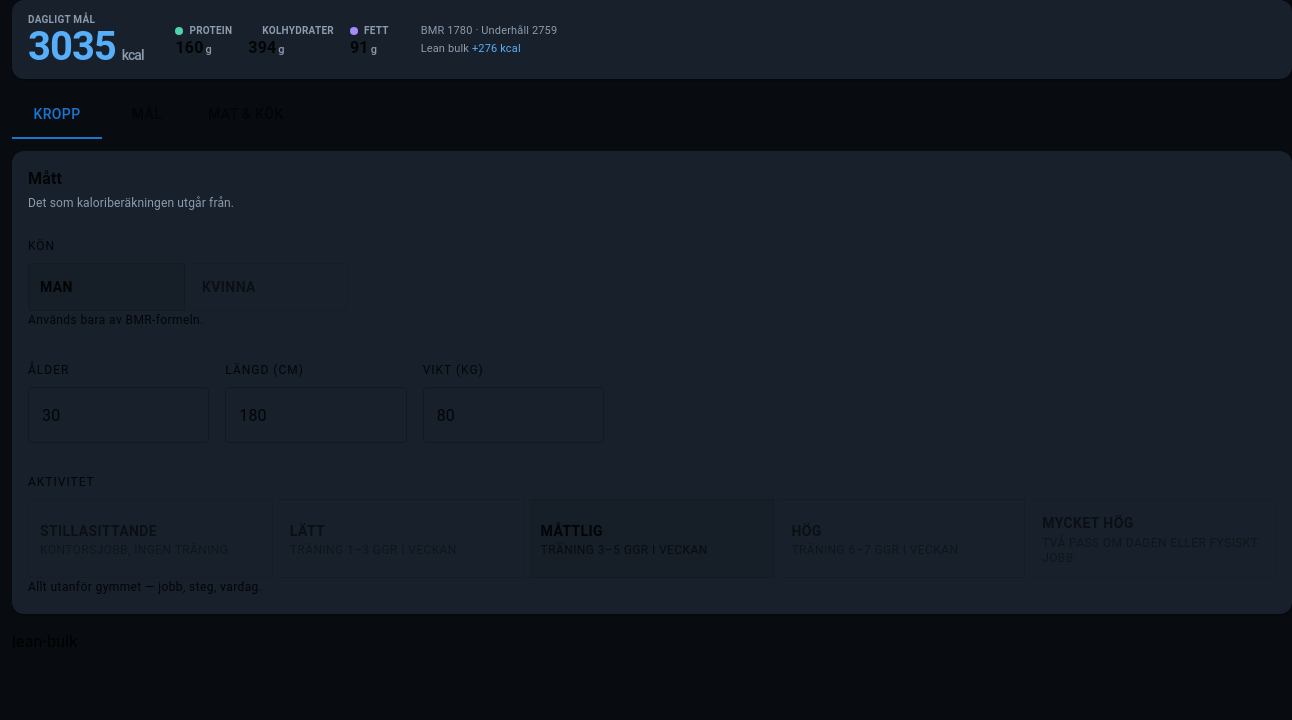
Test: Setup structure › names each training-day tile by its day, not by its initial
The image size is (1292, 720).
Click the tab "Mål".
click(147, 115)  # box [102,91,192,139]
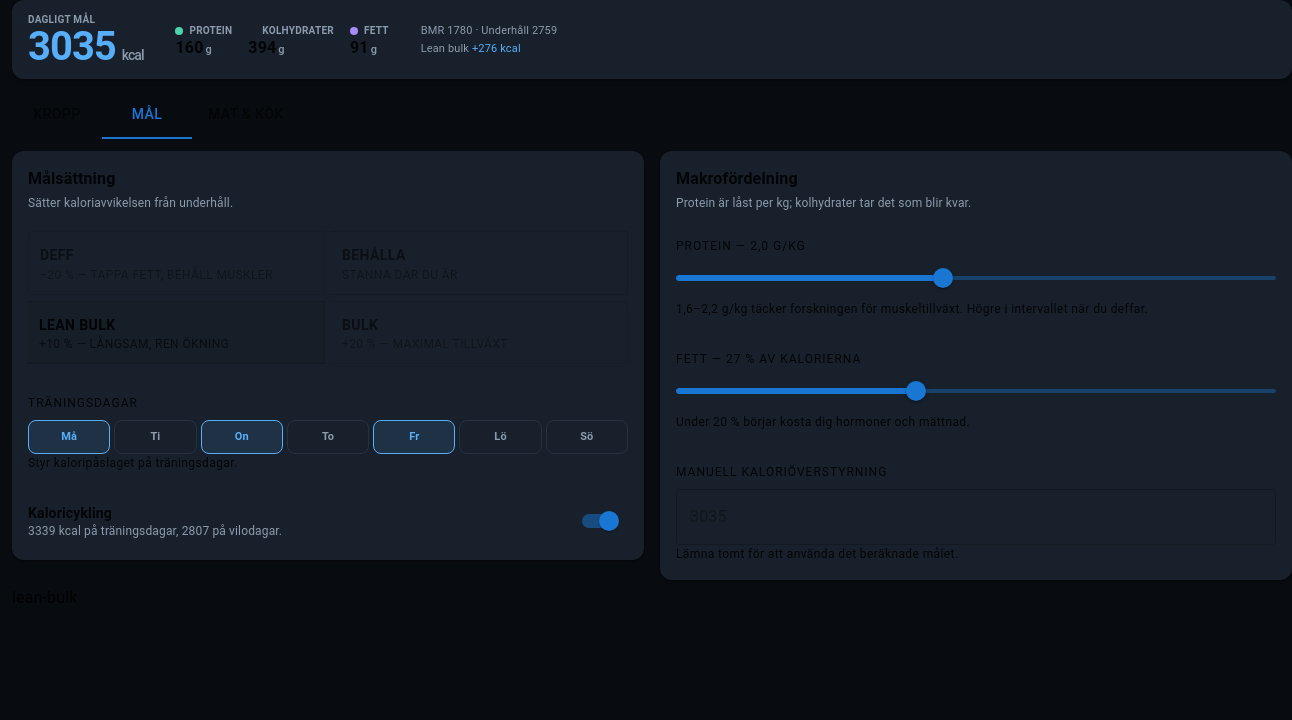
Result: the button with aria-label "Måndag" is shown at [28,420,110,454]
Result: the button with aria-label "Söndag" is shown at [546,420,628,454]
